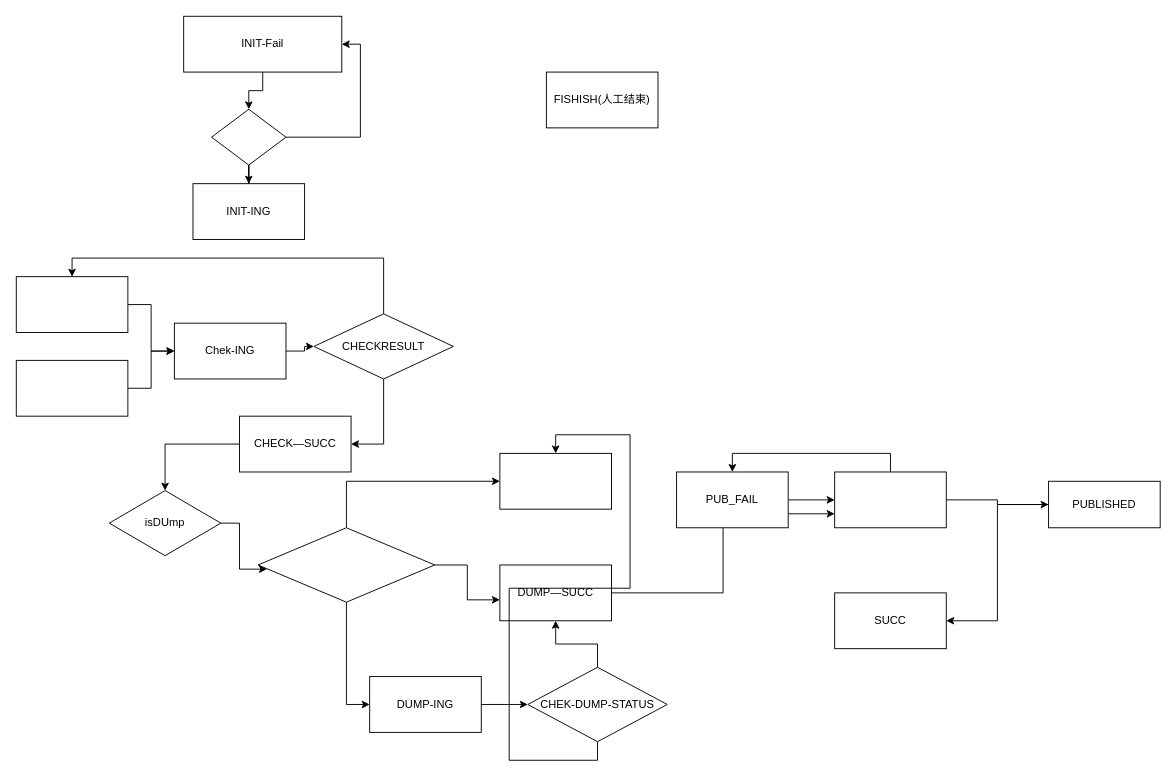
This 1176x784 diagram has some shape labels left out. Each missing label, with the centre of its shape:
"CHECK-FAIl" belongs at (x=71, y=304).
"CHEK-DUMP" belongs at (x=346, y=564).
"DUMP-FAIL" belongs at (x=555, y=480).
"INIT-SUCC" belongs at (x=71, y=387).
"PassEnvInit" belongs at (x=248, y=136).
"PUB-ING" belongs at (x=890, y=499).
